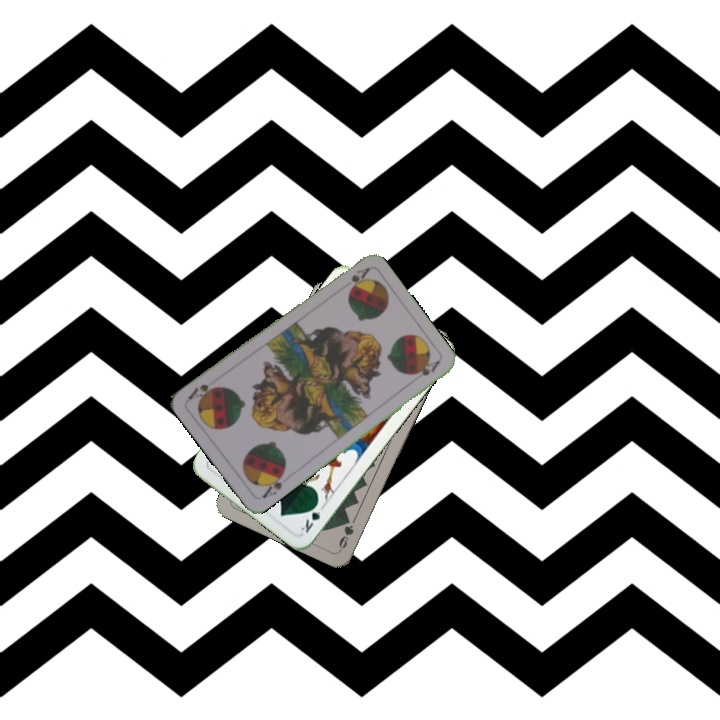G9: (335, 521, 356, 553)
GK: (297, 498, 327, 536)
SA: (258, 467, 287, 501), (347, 263, 372, 288)
